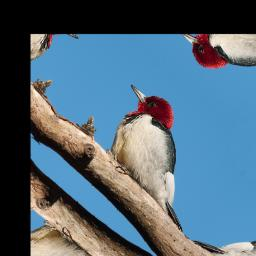Woodpecker: (81, 76, 241, 233)
